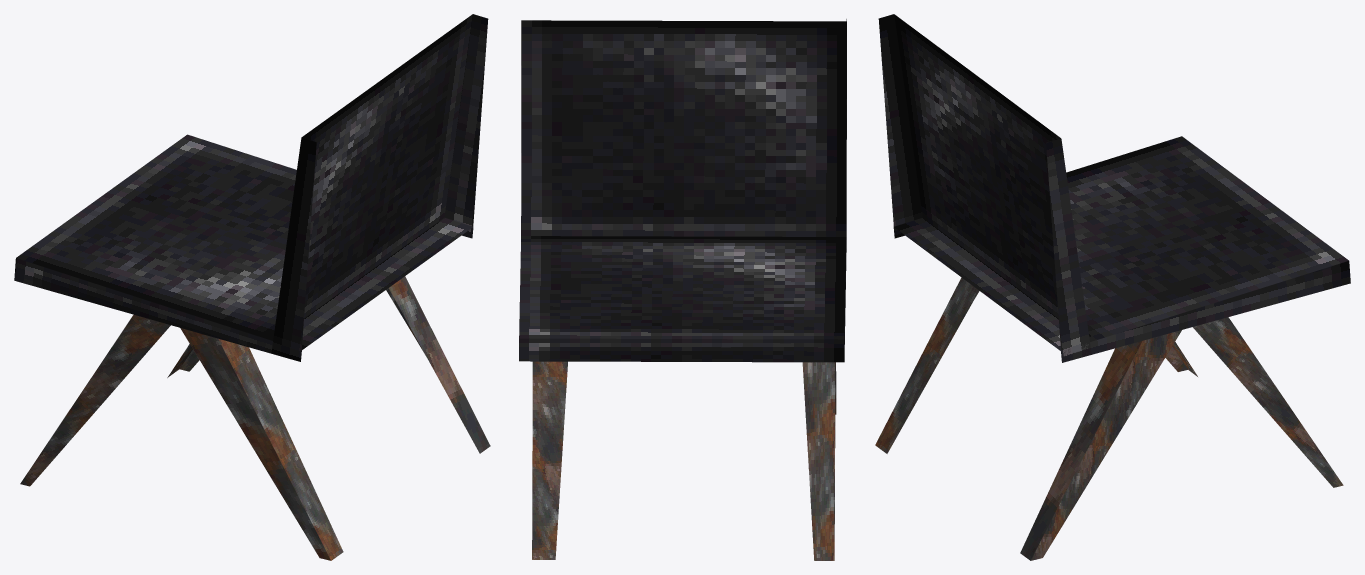
The model's file is primary_269.glb.
3 views of the same model, side by side, from view 1: azimuth 30°, elevation 25°; view 2: azimuth 150°, elevation 25°; view 3: azimuth 270°, elevation 25° (orthographic). The views are drawn at different scales.
Parts seen in each view (by area): view 1: Object; view 2: Object; view 3: Object.
Part boxes in pixels (x1,y1,x2,y2): Object: (14, 14, 490, 560); Object: (519, 19, 846, 560); Object: (875, 14, 1350, 560).
Size of the model in its own units: 0.8981 by 0.8928 by 0.9135.
Materials: 2 (2 with a texture image).
